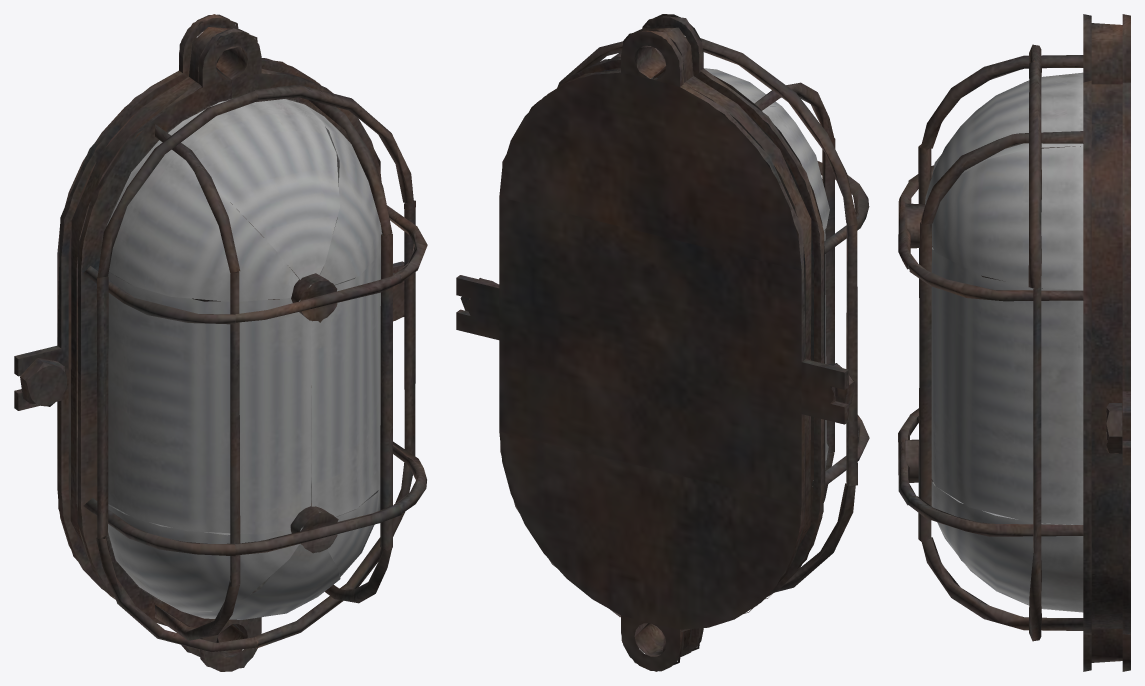
The model's file is industrial_wall_lamp.gltf.
The picture shows the model from 3 angles, left to right: view 1: azimuth 30°, elevation 25°; view 2: azimuth 150°, elevation 25°; view 3: azimuth 270°, elevation 25°; orthographic projection.
Visible parts, largest first — view 1: industrial_wall_lamp; view 2: industrial_wall_lamp; view 3: industrial_wall_lamp.
Part boxes in pixels (bbox=[...]): industrial_wall_lamp: bbox=[14, 14, 427, 671]; industrial_wall_lamp: bbox=[456, 14, 869, 671]; industrial_wall_lamp: bbox=[898, 14, 1130, 671].
Size of the model in its own units: 0.2737 by 0.4299 by 0.1401.
Materials: 1 (1 with a texture image).
